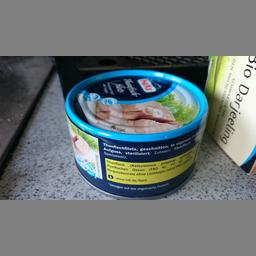fish: (63, 68, 209, 198)
